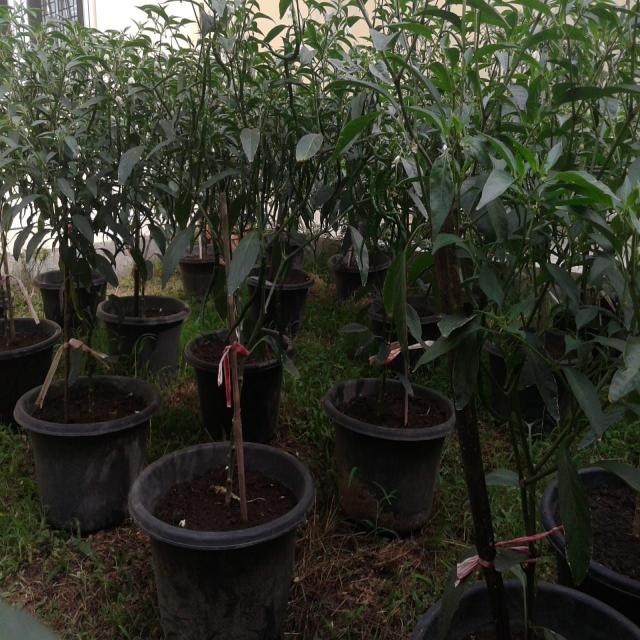sehat: (417, 146, 461, 240), (218, 232, 262, 300), (156, 214, 197, 286)
